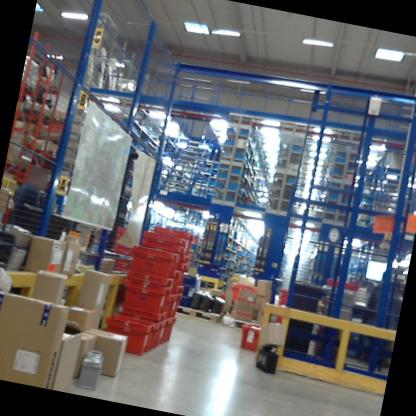pallet: (217, 304, 268, 336), (175, 302, 220, 323)
small_load_carrier: (95, 310, 159, 357), (105, 277, 171, 318), (121, 242, 182, 282), (137, 234, 190, 256), (236, 318, 267, 354), (119, 271, 172, 289), (144, 227, 189, 242), (136, 321, 162, 345), (166, 295, 187, 322), (161, 318, 178, 347), (171, 260, 189, 287), (156, 318, 169, 347), (169, 284, 190, 296), (177, 253, 191, 262)
